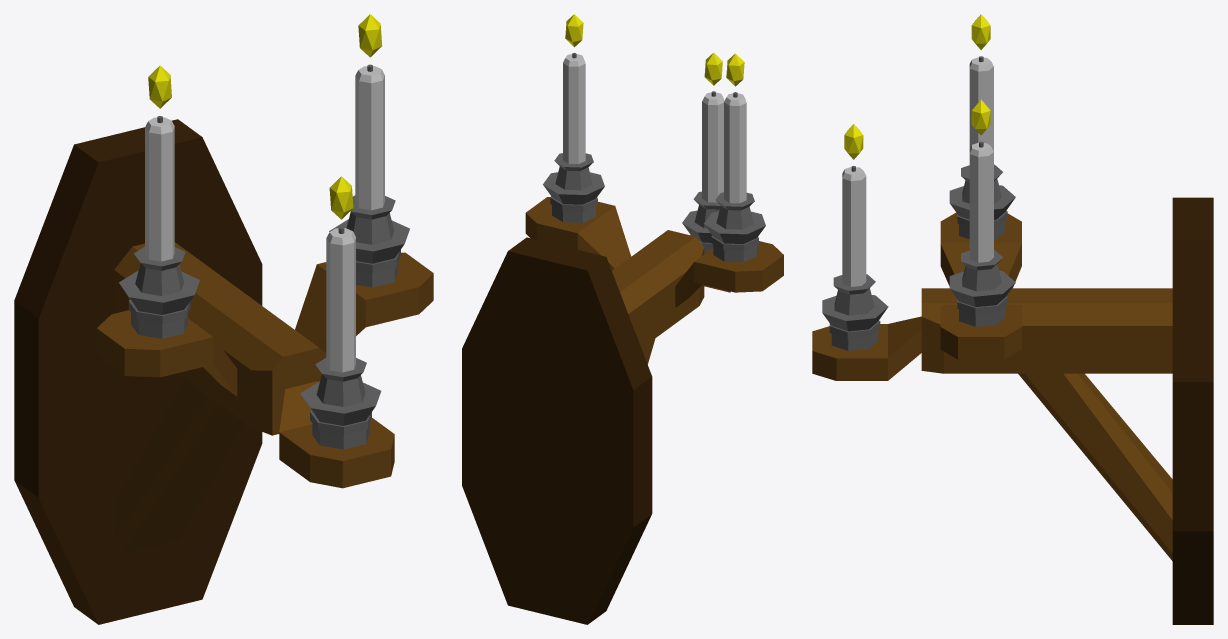
Rendered from WallCandle.fbx.
3 views of the same model, side by side, from view 1: azimuth 30°, elevation 25°; view 2: azimuth 150°, elevation 25°; view 3: azimuth 270°, elevation 25° (orthographic). The views are drawn at different scales.
Parts seen in each view (by area): view 1: CandleWall; view 2: CandleWall; view 3: CandleWall.
Boxes of the visible parts, box(x1,y1,x2,y2) form: CandleWall: box(14, 14, 433, 624); CandleWall: box(462, 14, 783, 624); CandleWall: box(812, 14, 1213, 624).
Bounding box in the file's own units: 48.83 × 99.17 × 65.91.
